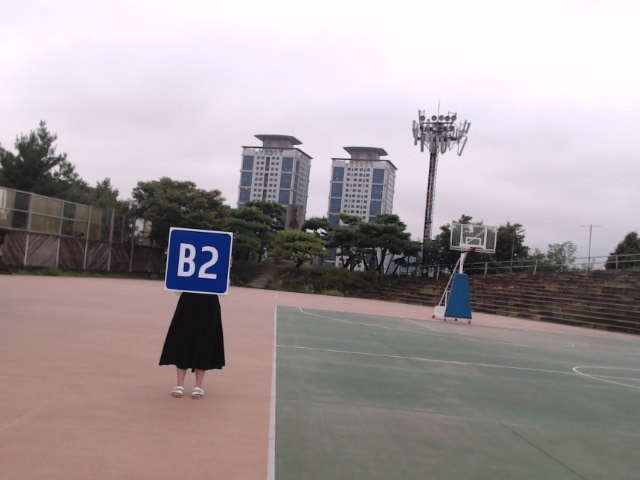delivery_b2: (164, 228, 232, 295)
